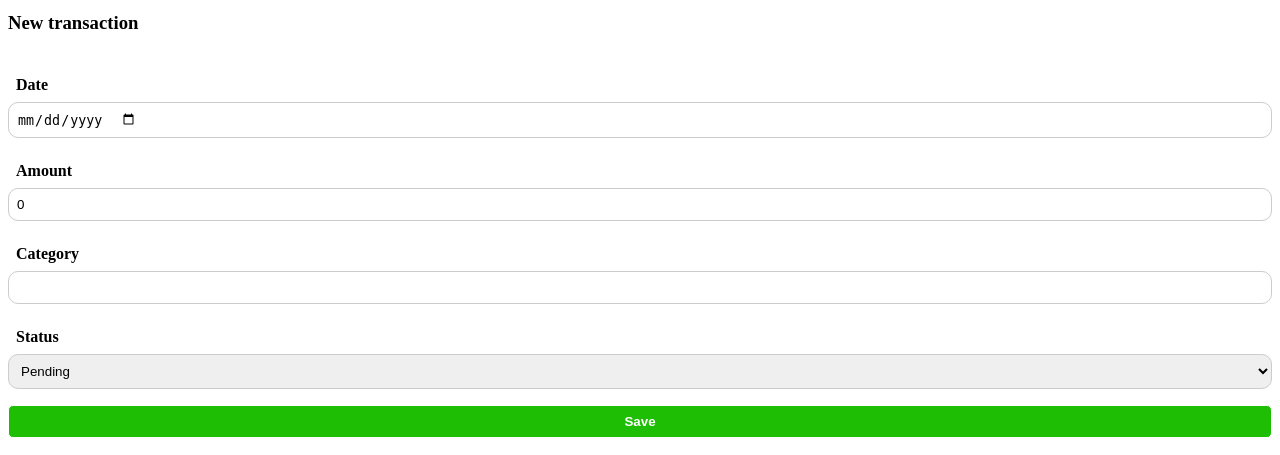
Test: TransactionForm › resets form after submit
Type "Utilities" into the field labelled "Category" at (640, 287), box [8,271,1272,304]
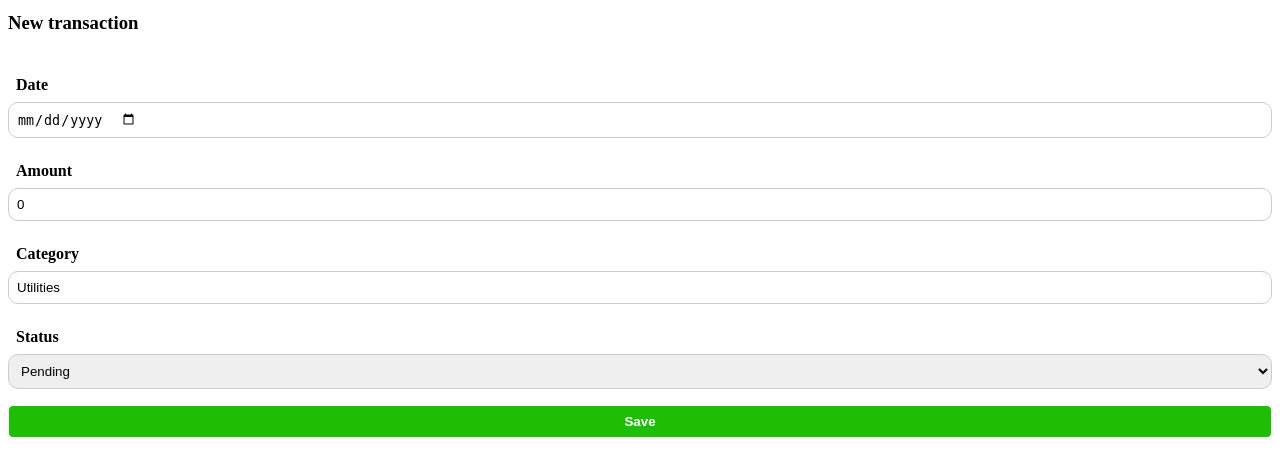
Replace the text in the number field labelled "Amount" with "100" at (640, 204), box [8,188,1272,221]
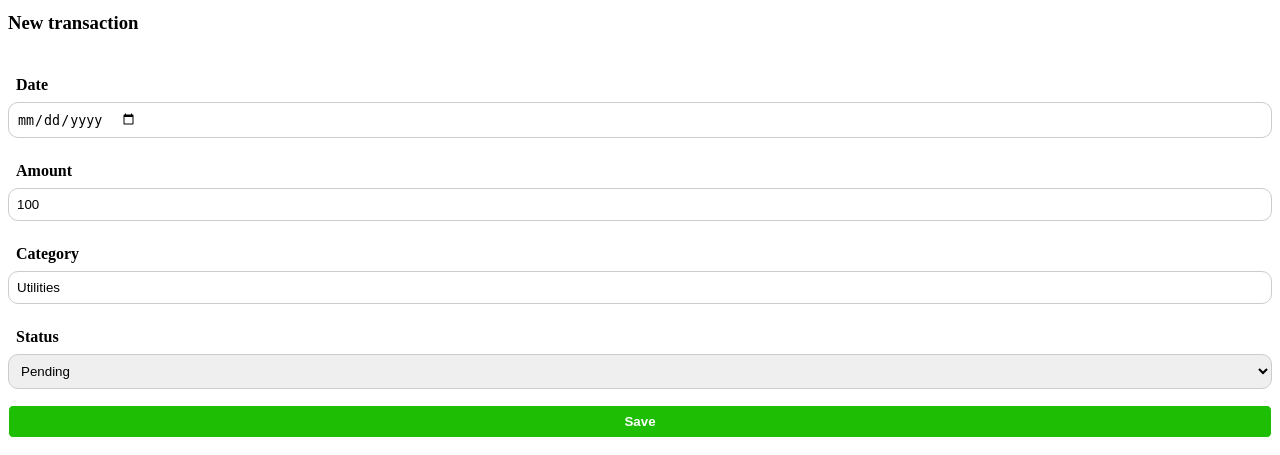
Type "2025-05-01" into the date field labelled "Date" at (640, 120), box [8,102,1272,138]
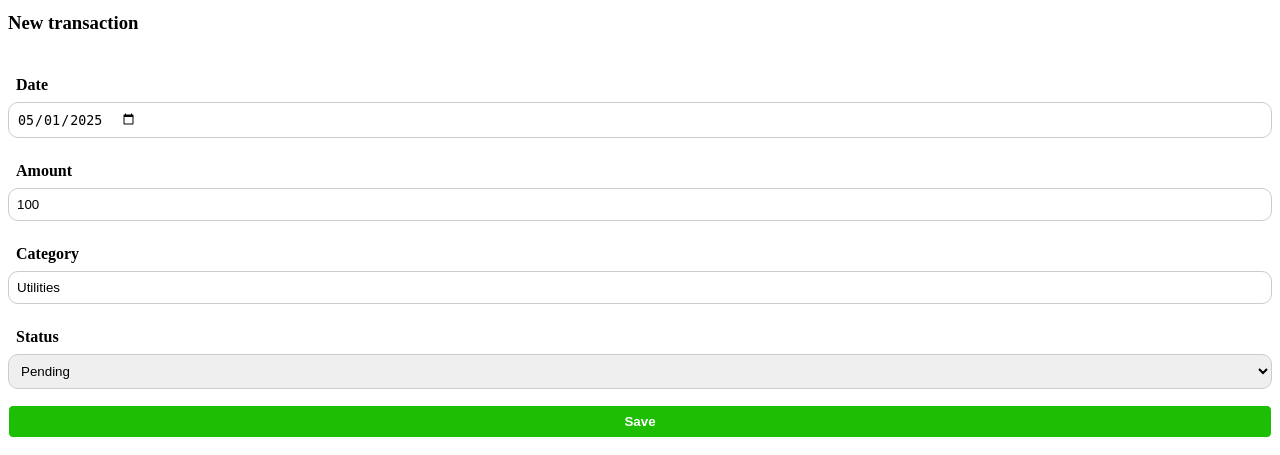
Select "Pending" in the dropdown labelled "Status" at (640, 371), box [8,354,1272,389]
Click the button "Save" at (640, 421), box [8,405,1272,438]
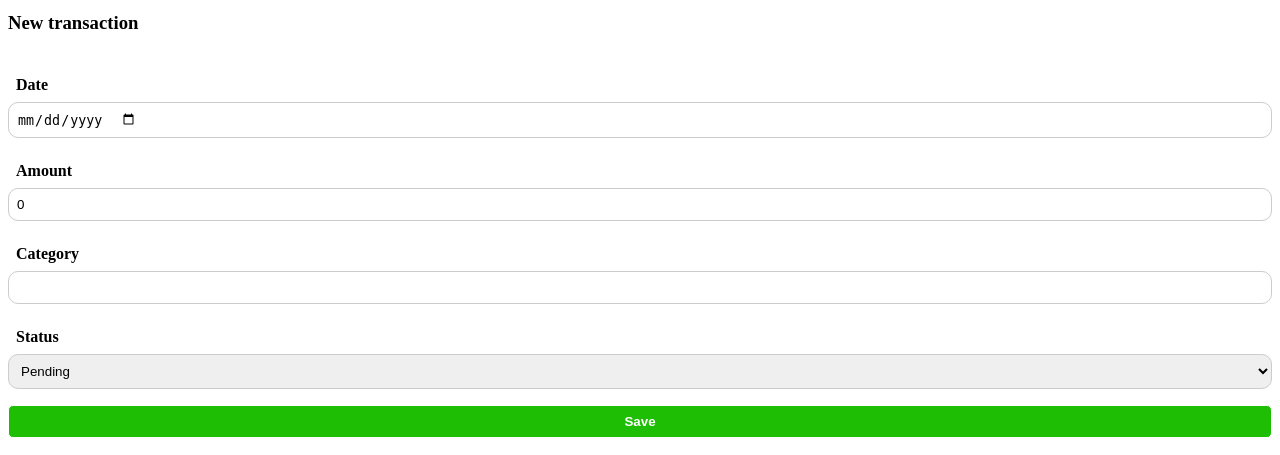
Check: the field labelled "Category" is empty, box [8,271,1272,304]
Check: the number field labelled "Amount" holds "0", box [8,188,1272,221]
Check: the date field labelled "Date" is empty, box [8,102,1272,138]
